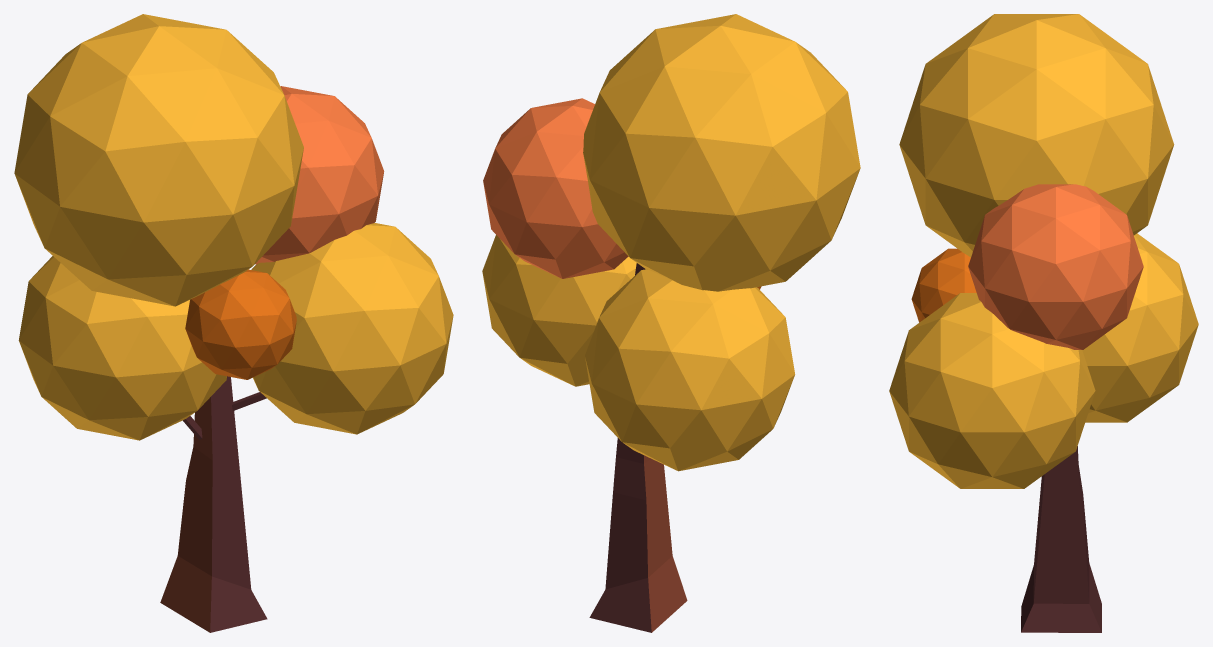
File: NewTree.fbx
The picture shows the model from 3 angles, left to right: view 1: azimuth 30°, elevation 25°; view 2: azimuth 150°, elevation 25°; view 3: azimuth 270°, elevation 25°; orthographic projection. The views are drawn at different scales.
Visible parts, largest first — view 1: Icosphere.003; view 2: Icosphere.003; view 3: Icosphere.003.
Part boxes in pixels (x1=…): Icosphere.003: x1=14, y1=14, x2=453, y2=632; Icosphere.003: x1=482, y1=14, x2=860, y2=632; Icosphere.003: x1=889, y1=14, x2=1198, y2=632.
Size of the model in its own units: 552 by 858 by 425.
